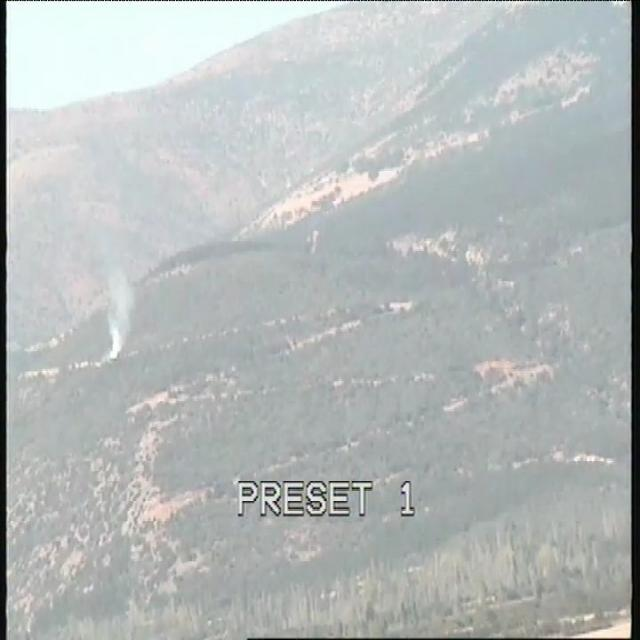smoke: (104, 277, 132, 364)
